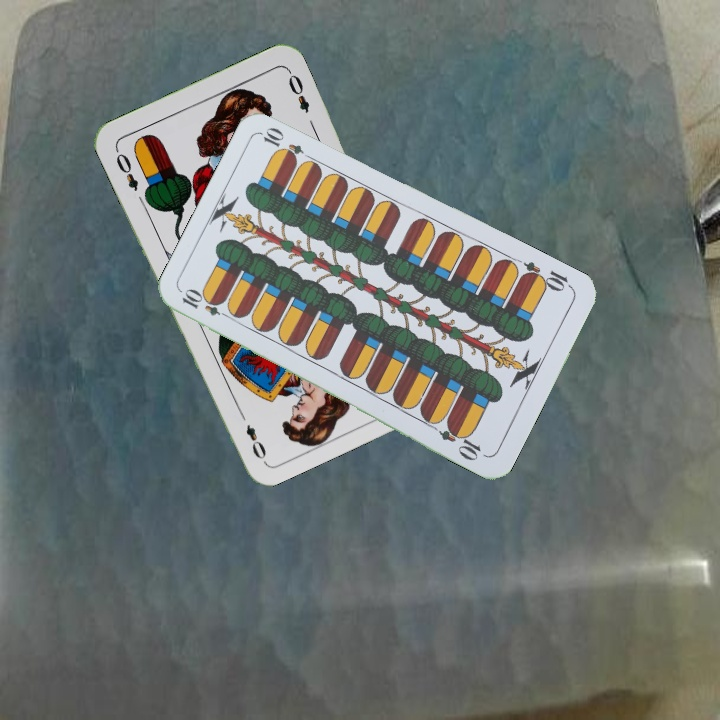E10: (517, 257, 575, 295), (178, 287, 235, 322)
EO: (111, 145, 141, 194)
